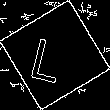L_N: (34, 27, 76, 83)
